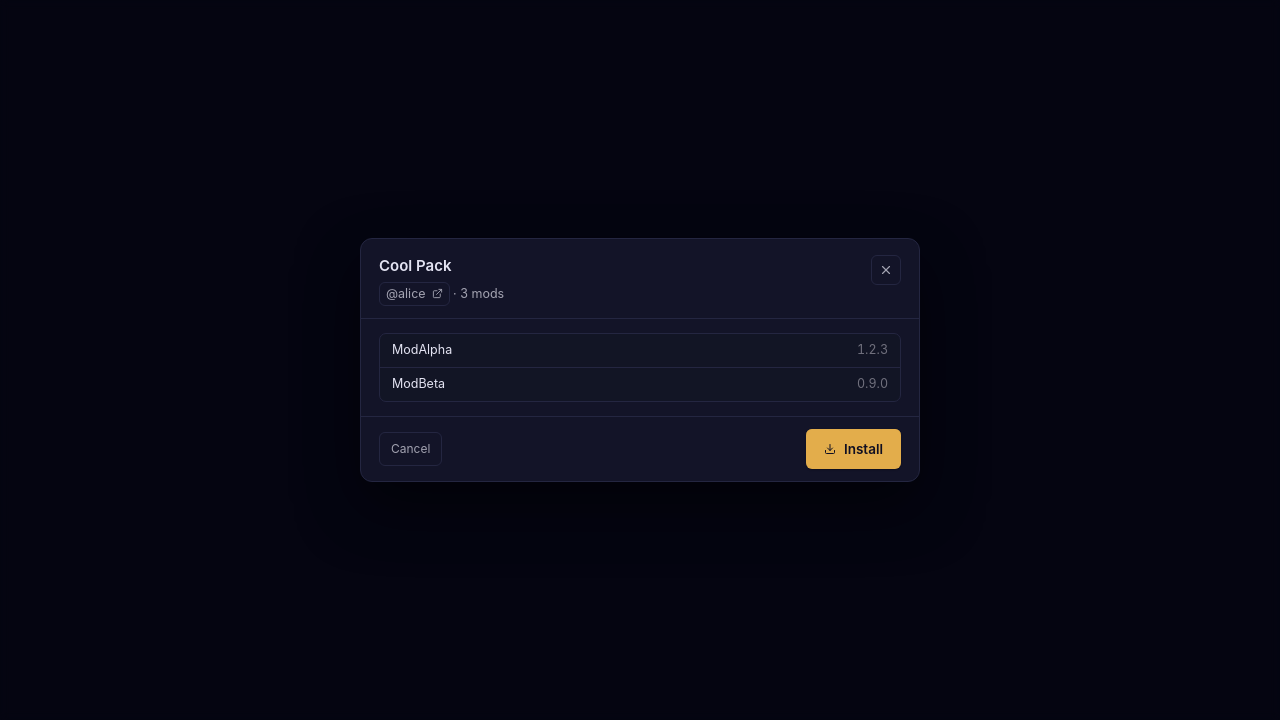
Test case: <BrowseModpackDetail> › Install failure stringifies non-Error rejections
The image size is (1280, 720).
Expected: the text "ModAlpha" is shown, [392,341,452,360]
What coordinates should you click on to do the following:
click the button "Install"
I would click on:
 (853, 449)
Its box is [806,429,901,469].
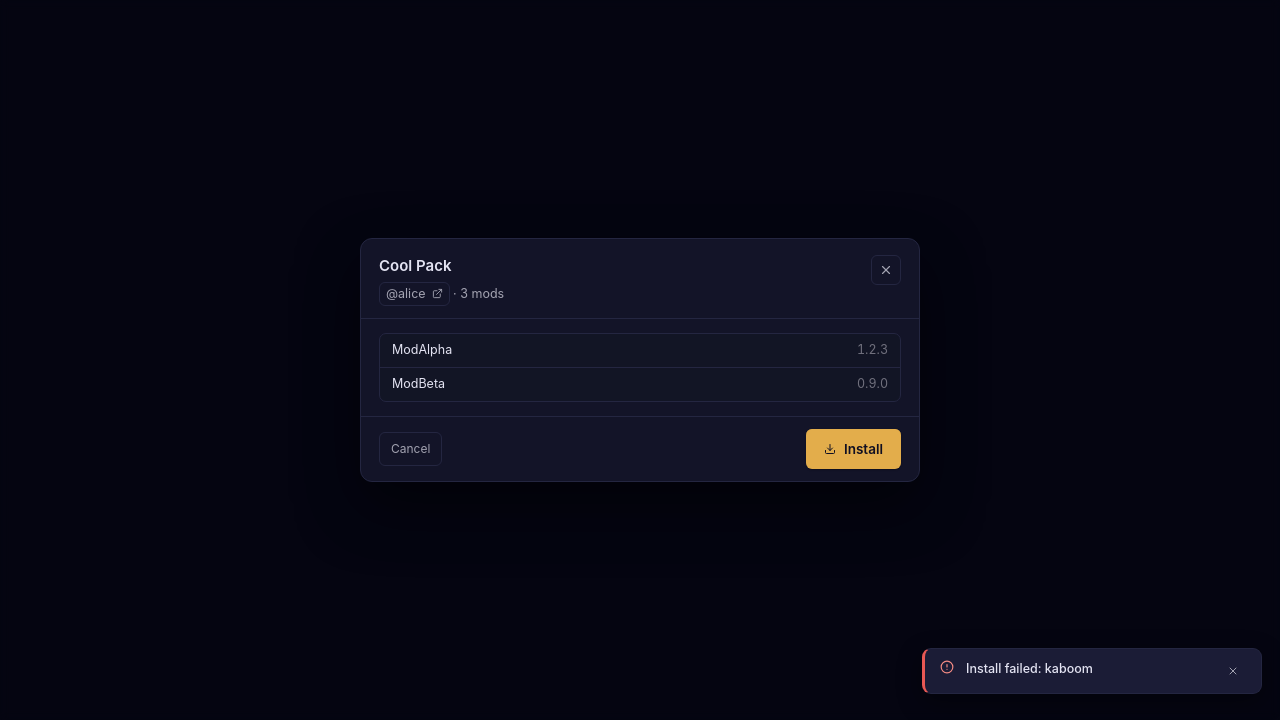
Now the text "Install failed: kaboom" is shown, box [966,661,1093,676]
